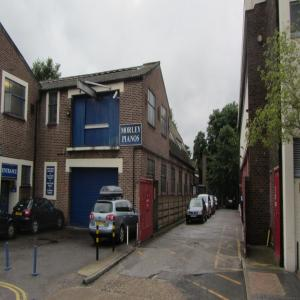Vehicle-registration-plate: (96, 220, 106, 228), (16, 213, 22, 215), (191, 215, 197, 217)
